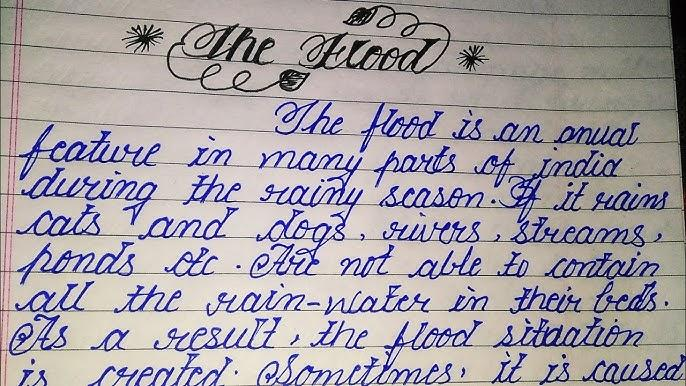text: (16, 121, 626, 192), (18, 165, 671, 228), (14, 202, 664, 262), (7, 312, 648, 370), (12, 241, 664, 287), (166, 0, 454, 97), (12, 277, 669, 317), (12, 349, 686, 386), (272, 98, 642, 156)
